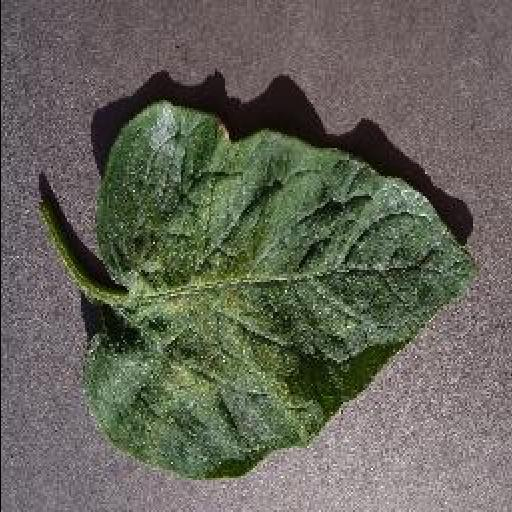disease_tomato: (80, 96, 482, 478)
